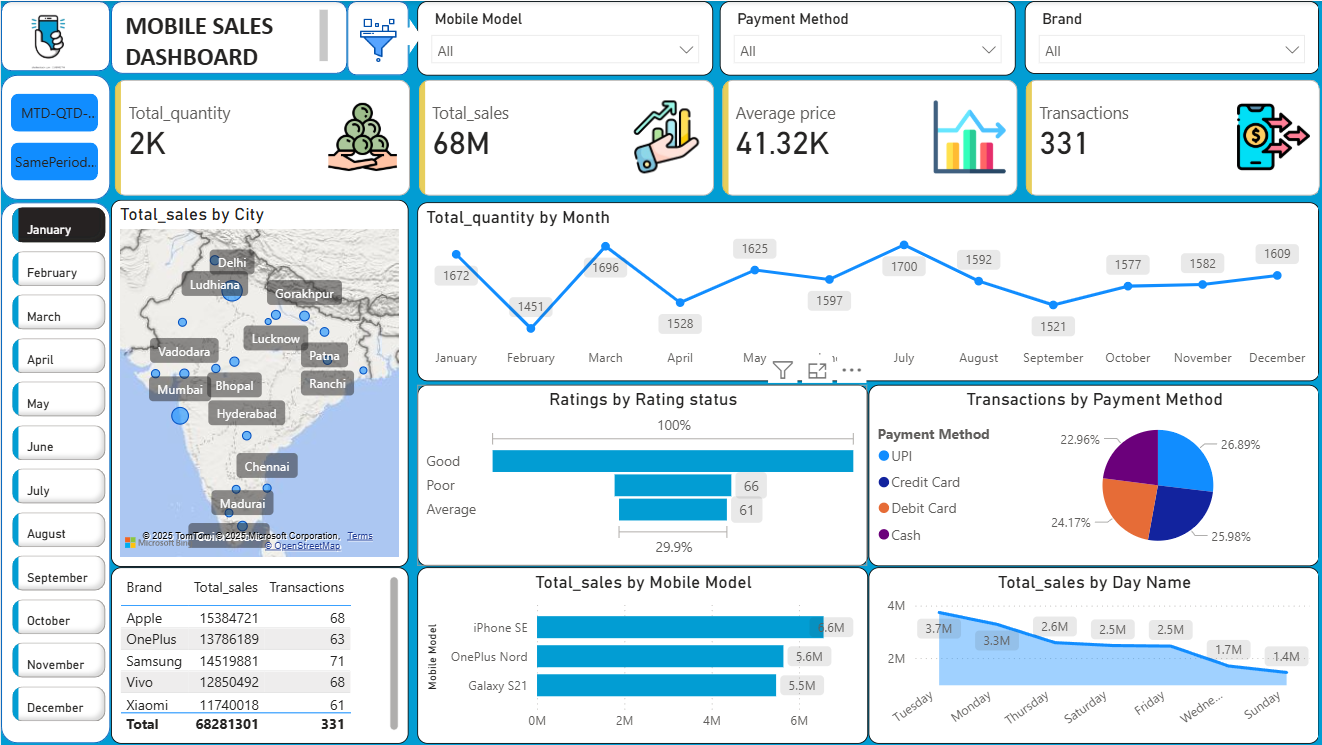

This screenshot's page, from the dashboard's own definition file:
{"tool":"powerbi","page":{"name":"Dashboard","canvas":[1280,720],"ordinal":0},"visuals":[{"type":"shape","box":[0,0,105.3,67.8],"z":0},{"type":"shape","box":[0,70.8,105.6,120.8],"z":1000},{"type":"image","box":[7.2,2.9,76.5,67.8],"z":2000},{"type":"shape","box":[0,194.4,105.6,522.2],"z":3000},{"type":"advancedSlicerVisual","fields":{"Values":["Customer_Calendar.Date.Variation.Date Hierarchy.Month"]},"box":[5.6,194.4,100,516.7],"z":4000},{"type":"cardVisual","fields":{"Data":["Mobile_Sales_Data.Total_quantity","Mobile_Sales_Data.Total_sales","Mobile_Sales_Data.Average price","Mobile_Sales_Data.Transactions"]},"box":[105.2,71.4,1175.3,122.1],"z":5000},{"type":"slicer","fields":{"Values":["Mobile_Sales_Data.Mobile Model"]},"box":[401.6,0,285.9,71.9],"z":6000},{"type":"slicer","fields":{"Values":["Mobile_Sales_Data.Payment Method"]},"box":[693.8,0,285.9,71.9],"z":7000},{"type":"slicer","fields":{"Values":["Mobile_Sales_Data.Brand"]},"box":[988.3,0,284.4,70.1],"z":8000},{"type":"shape","box":[334.4,0,59.4,71.9],"z":9000},{"type":"image","box":[337.5,10.9,53.1,54.7],"z":10000},{"type":"shape","box":[382.8,17.2,23.4,34.4],"z":11000},{"type":"shape","box":[106.2,0,228.1,70.3],"z":12000},{"type":"textbox","box":[114.1,3.1,206,64],"z":13000},{"type":"map","fields":{"Category":["Mobile_Sales_Data.City"],"Size":["Mobile_Sales_Data.Total_sales"]},"box":[106.5,192.2,287,354.5],"z":14000},{"type":"lineChart","fields":{"Category":["Customer_Calendar.Date.Variation.Date Hierarchy.Month"],"Y":["Mobile_Sales_Data.Total_quantity"]},"box":[401.7,194.2,871.1,172.5],"z":15000},{"type":"funnel","title":"Ratings by Rating status","fields":{"Y":["CountNonNull(Mobile_Sales_Data.Customer Ratings)"],"Category":["Mobile_Sales_Data.Rating status"]},"box":[401.3,370.1,435.1,175.3],"z":16000},{"type":"pieChart","fields":{"Category":["Mobile_Sales_Data.Payment Method"],"Y":["Mobile_Sales_Data.Transactions"]},"box":[837.7,370.1,435.1,175.3],"z":17000},{"type":"clusteredBarChart","fields":{"Category":["Mobile_Sales_Data.Mobile Model"],"Y":["Mobile_Sales_Data.Total_sales"]},"box":[401.3,546.8,435.1,170.1],"z":18000},{"type":"areaChart","fields":{"Y":["Mobile_Sales_Data.Total_sales"],"Category":["Customer_Calendar.Day Name"]},"box":[837.7,546.8,435.1,170.1],"z":19000},{"type":"tableEx","fields":{"Values":["Mobile_Sales_Data.Brand","Mobile_Sales_Data.Total_sales","Mobile_Sales_Data.Transactions"]},"box":[106.5,546.8,287,170.1],"z":20000},{"type":"pageNavigator","box":[0,123.6,600,50],"z":21000},{"type":"pageNavigator","box":[9.7,88.9,84.7,84.7],"z":22000}]}

Visuals, with their boxes in screenshot pixels (x1, y1, x2, y2), scaled from the page's 1280x720 canvas onto the 1322x745 screenshot:
shape: box(0, 0, 109, 70)
shape: box(0, 73, 109, 198)
image: box(7, 3, 86, 73)
shape: box(0, 201, 109, 741)
advancedSlicerVisual - Customer_Calendar.Date.Variation.Date Hierarchy.Month: box(6, 201, 109, 736)
cardVisual - Mobile_Sales_Data.Total_quantity x Mobile_Sales_Data.Total_sales: box(109, 74, 1321, 200)
slicer - Mobile_Sales_Data.Mobile Model: box(415, 0, 710, 74)
slicer - Mobile_Sales_Data.Payment Method: box(717, 0, 1012, 74)
slicer - Mobile_Sales_Data.Brand: box(1021, 0, 1314, 73)
shape: box(345, 0, 407, 74)
image: box(349, 11, 403, 68)
shape: box(395, 18, 420, 53)
shape: box(110, 0, 345, 73)
textbox: box(118, 3, 331, 69)
map - Mobile_Sales_Data.City x Mobile_Sales_Data.Total_sales: box(110, 199, 406, 566)
lineChart - Customer_Calendar.Date.Variation.Date Hierarchy.Month x Mobile_Sales_Data.Total_quantity: box(415, 201, 1315, 379)
"Ratings by Rating status" funnel: box(414, 383, 864, 564)
pieChart - Mobile_Sales_Data.Payment Method x Mobile_Sales_Data.Transactions: box(865, 383, 1315, 564)
clusteredBarChart - Mobile_Sales_Data.Mobile Model x Mobile_Sales_Data.Total_sales: box(414, 566, 864, 742)
areaChart - Mobile_Sales_Data.Total_sales x Customer_Calendar.Day Name: box(865, 566, 1315, 742)
tableEx - Mobile_Sales_Data.Brand x Mobile_Sales_Data.Total_sales: box(110, 566, 406, 742)
pageNavigator: box(0, 128, 620, 180)
pageNavigator: box(10, 92, 97, 180)
